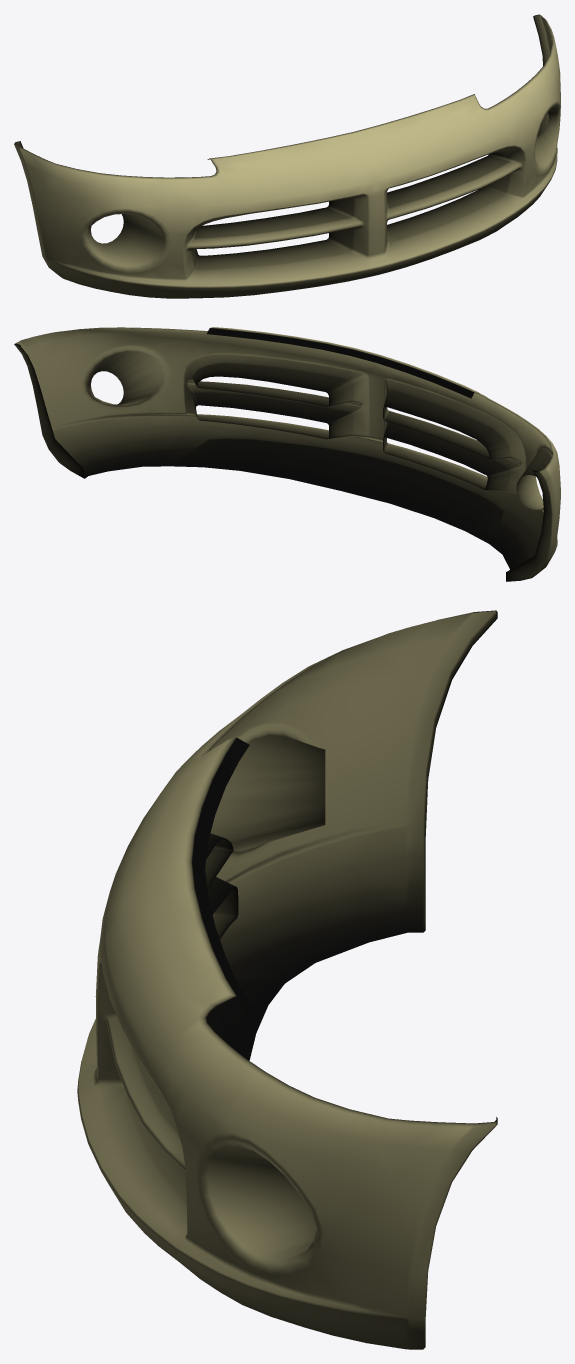
File: Viper_FB_01_Duco.fbx
3 views of the same model, one above another, from view 1: azimuth 30°, elevation 25°; view 2: azimuth 150°, elevation 25°; view 3: azimuth 270°, elevation 25° (orthographic). The views are drawn at different scales.
Visible parts, largest first — view 1: Viper_FB_01_Duco; view 2: Viper_FB_01_Duco; view 3: Viper_FB_01_Duco.
Boxes of the visible parts, <box> form: Viper_FB_01_Duco: <box>14,14,560,298</box>; Viper_FB_01_Duco: <box>14,327,560,581</box>; Viper_FB_01_Duco: <box>77,610,497,1349</box>.
Bounding box in the file's own units: 183 × 45.92 × 63.18.
